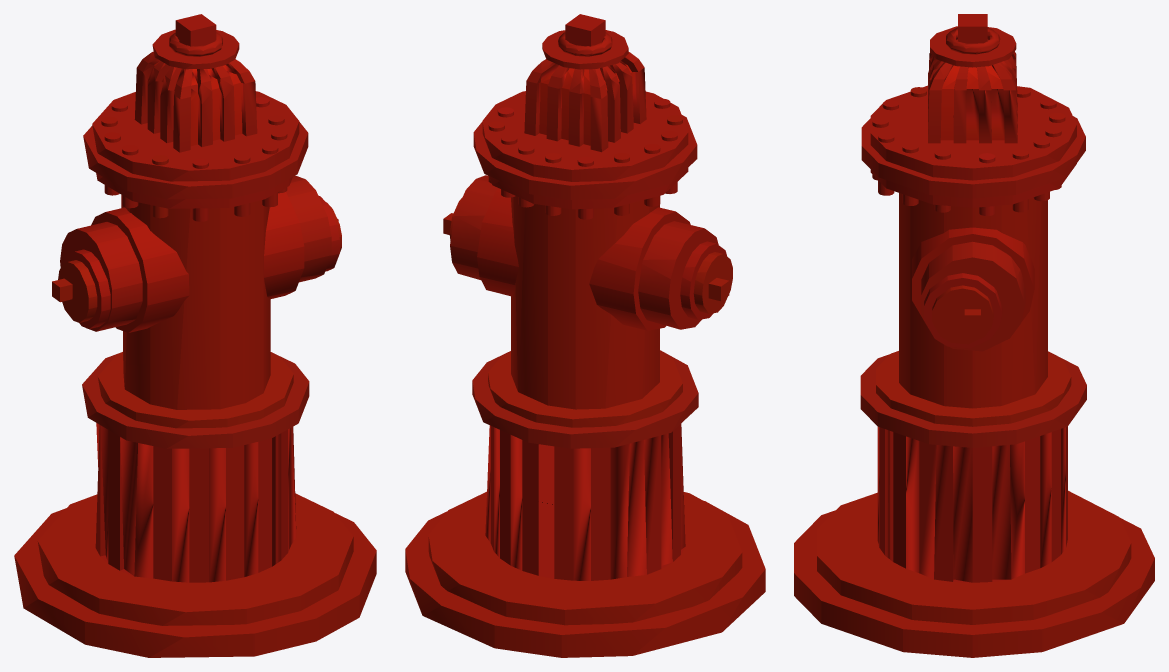
File: fire-hydrant-2.glb
3 views of the same model, side by side, from view 1: azimuth 30°, elevation 25°; view 2: azimuth 150°, elevation 25°; view 3: azimuth 270°, elevation 25° (orthographic).
Visible parts, largest first — view 1: Cylinder.002, Cylinder.005, Cylinder.001, Cylinder, Cube.002, Cylinder.015, Cylinder.006, Cylinder.003, Cylinder.004, Cylinder.014, Cylinder.008, Cylinder.007 (+7 smaller); view 2: Cylinder.002, Cylinder.005, Cylinder.001, Cylinder, Cube.002, Cylinder.015, Cylinder.006, Cylinder.003, Cylinder.004, Cylinder.008, Cylinder.014, Cylinder.007 (+6 smaller); view 3: Cylinder.002, Cylinder.001, Cylinder.005, Cylinder, Cylinder.015, Cube.002, Cylinder.003, Cylinder.004, Cylinder.014, Cylinder.007, Cylinder.006, Cylinder.011 (+5 smaller).
Boxes of the visible parts, bbox=[...] form: Cylinder.002: bbox=[95, 423, 296, 582]; Cylinder.005: bbox=[121, 195, 270, 409]; Cylinder.001: bbox=[37, 493, 353, 625]; Cylinder: bbox=[14, 508, 376, 657]; Cube.002: bbox=[134, 51, 257, 152]; Cylinder.015: bbox=[92, 91, 299, 181]; Cylinder.006: bbox=[91, 192, 304, 332]; Cylinder.003: bbox=[82, 352, 309, 448]; Cylinder.004: bbox=[97, 352, 293, 428]; Cylinder.014: bbox=[83, 122, 308, 199]; Cylinder.008: bbox=[60, 222, 142, 331]; Cylinder.007: bbox=[286, 175, 331, 282]; Cylinder.002: bbox=[485, 423, 685, 580]; Cylinder.005: bbox=[511, 196, 659, 409]; Cylinder.001: bbox=[428, 491, 742, 625]; Cylinder: bbox=[405, 501, 765, 657]; Cube.002: bbox=[524, 52, 646, 152]; Cylinder.015: bbox=[482, 91, 688, 181]; Cylinder.006: bbox=[477, 188, 690, 330]; Cylinder.003: bbox=[472, 350, 698, 448]; Cylinder.004: bbox=[488, 352, 682, 427]; Cylinder.008: bbox=[638, 221, 718, 329]; Cylinder.014: bbox=[473, 115, 697, 199]; Cylinder.007: bbox=[450, 175, 498, 279]; Cylinder.002: bbox=[877, 426, 1067, 582]; Cylinder.001: bbox=[817, 490, 1131, 624]; Cylinder.005: bbox=[899, 193, 1047, 408]; Cylinder: bbox=[794, 510, 1154, 657]; Cylinder.015: bbox=[870, 85, 1076, 180]; Cube.002: bbox=[928, 51, 1017, 143]; Cylinder.003: bbox=[860, 351, 1086, 447]; Cylinder.004: bbox=[876, 351, 1071, 426]; Cylinder.014: bbox=[861, 116, 1085, 198]; Cylinder.007: bbox=[921, 241, 1025, 351]; Cylinder.006: bbox=[912, 227, 1034, 321]; Cylinder.011: bbox=[932, 285, 993, 344].
Size of the model in its own units: 0.4417 by 0.75 by 0.4375.
1 material, 1 textured.
